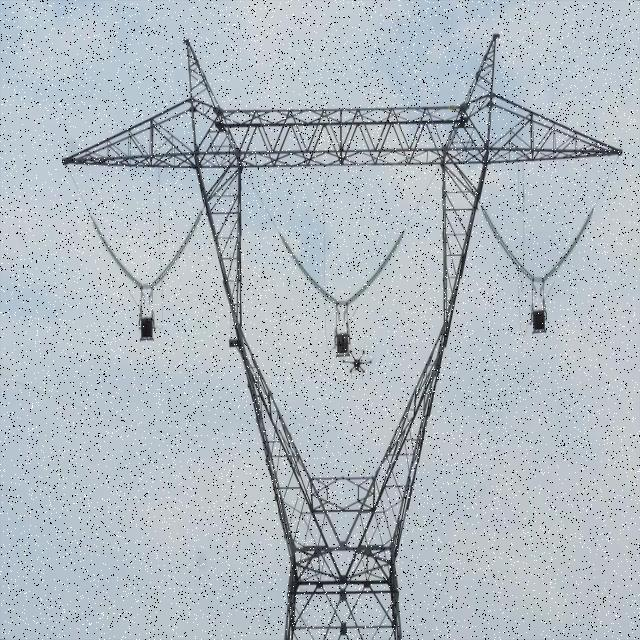UAV: (342, 350, 372, 380)
